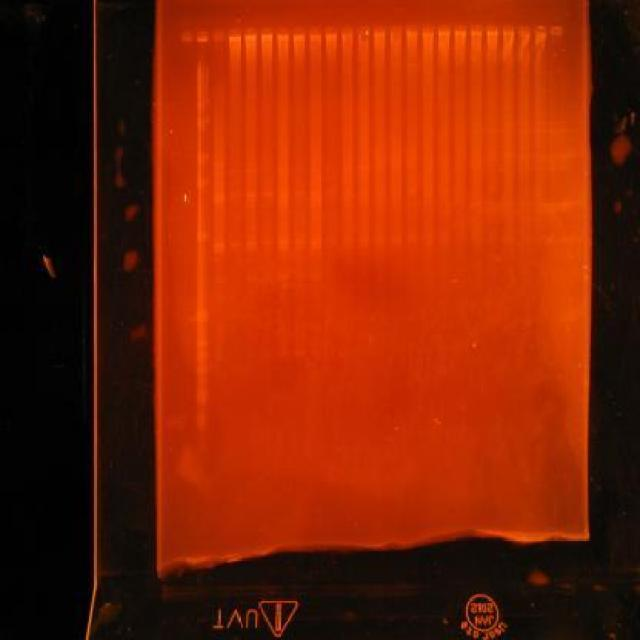B: (275, 348, 291, 359), (212, 240, 226, 248), (292, 190, 306, 198), (292, 350, 306, 358), (212, 194, 225, 202), (309, 273, 322, 281), (278, 273, 290, 281), (212, 200, 226, 206), (244, 168, 258, 174), (244, 244, 258, 250), (260, 238, 274, 244), (276, 240, 290, 246), (276, 246, 290, 252), (308, 238, 322, 244), (309, 244, 323, 250), (276, 191, 290, 197), (276, 197, 290, 203), (276, 203, 290, 209), (308, 197, 322, 203), (373, 164, 387, 170), (212, 248, 225, 254), (212, 162, 225, 168), (212, 170, 225, 176), (212, 278, 225, 284), (245, 192, 258, 198), (228, 198, 241, 204), (245, 240, 258, 246), (229, 241, 242, 247), (309, 202, 322, 208), (294, 240, 306, 246), (294, 244, 306, 250), (310, 191, 322, 197), (278, 167, 290, 173), (358, 166, 370, 172), (260, 192, 274, 197), (228, 170, 241, 175), (228, 193, 241, 198), (245, 198, 258, 202)
L: (176, 22, 569, 48)
M: (193, 49, 212, 442)
P: (194, 413, 209, 432), (196, 96, 210, 116), (196, 116, 210, 133), (196, 151, 210, 167), (196, 309, 210, 325), (194, 391, 208, 406), (196, 364, 210, 378), (195, 351, 208, 364), (196, 230, 210, 242), (196, 178, 210, 190), (196, 338, 210, 348)
Pc: (357, 26, 371, 42), (388, 24, 402, 40), (196, 30, 210, 44), (373, 24, 387, 38), (228, 29, 242, 42), (453, 23, 469, 34), (341, 25, 354, 38), (210, 30, 224, 42), (244, 28, 258, 40), (260, 28, 274, 40), (276, 28, 290, 40), (486, 24, 500, 36), (469, 24, 483, 36), (422, 24, 436, 36), (406, 24, 420, 36), (549, 26, 563, 37), (324, 27, 338, 38), (308, 26, 322, 37), (292, 27, 306, 38), (502, 23, 516, 34), (438, 23, 452, 34), (179, 32, 193, 42), (534, 26, 548, 36), (518, 26, 532, 34)
